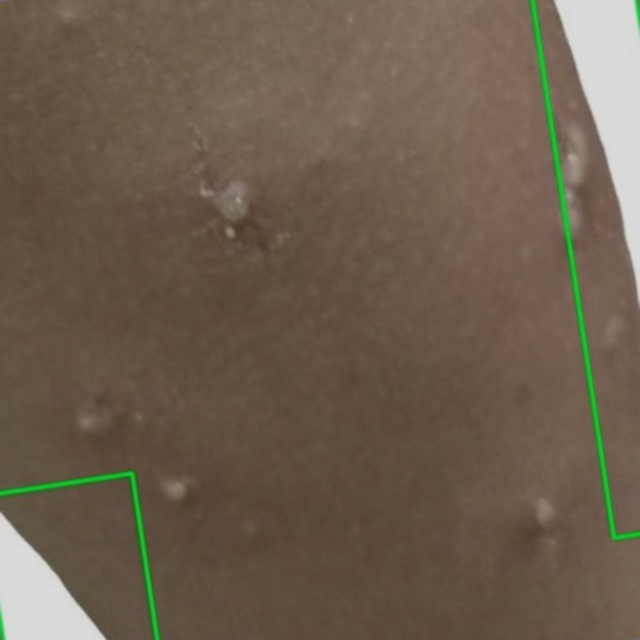Scabies: (0, 473, 157, 639)
